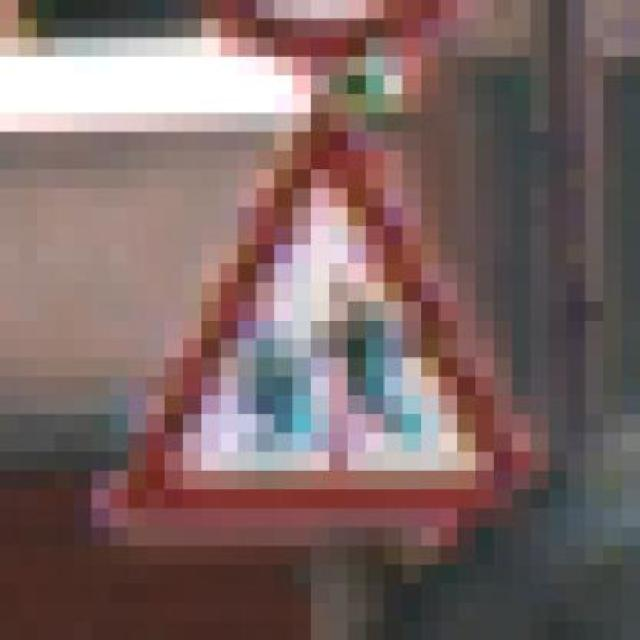Beware of children: (92, 75, 530, 528)
